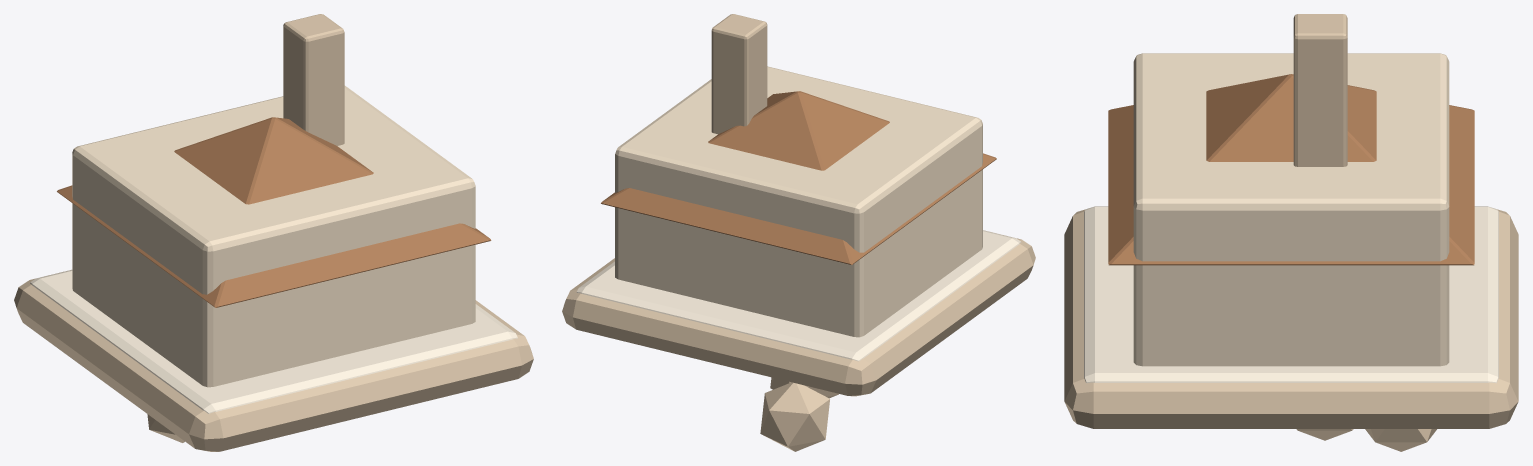
The model's file is island_finetune.glb.
3 views of the same model, side by side, from view 1: azimuth 30°, elevation 25°; view 2: azimuth 150°, elevation 25°; view 3: azimuth 270°, elevation 25° (orthographic). The views are drawn at different scales.
Parts seen in each view (by area): view 1: island_finetune; view 2: island_finetune; view 3: island_finetune.
Boxes of the visible parts, left/top/right/bottom form: island_finetune: left=14, top=14, right=533, bottom=451; island_finetune: left=562, top=14, right=1035, bottom=451; island_finetune: left=1064, top=14, right=1518, bottom=451.
Bounding box in the file's own units: 1.56 × 1.83 × 1.56.
